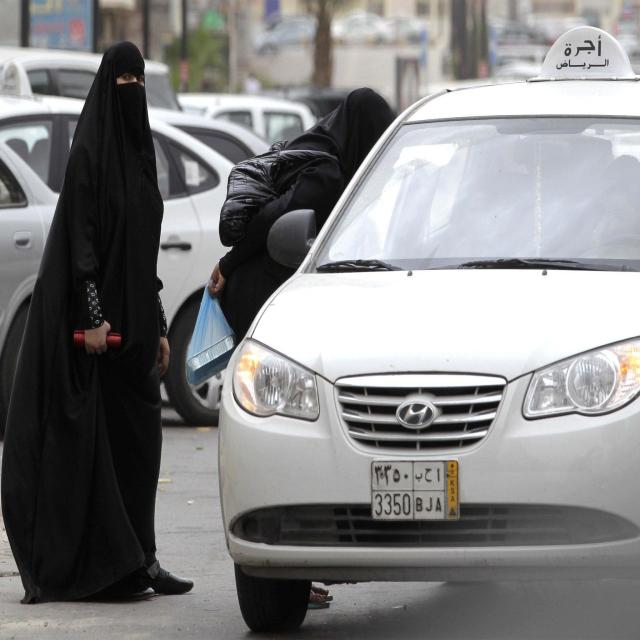license_plate: (367, 454, 455, 523)
